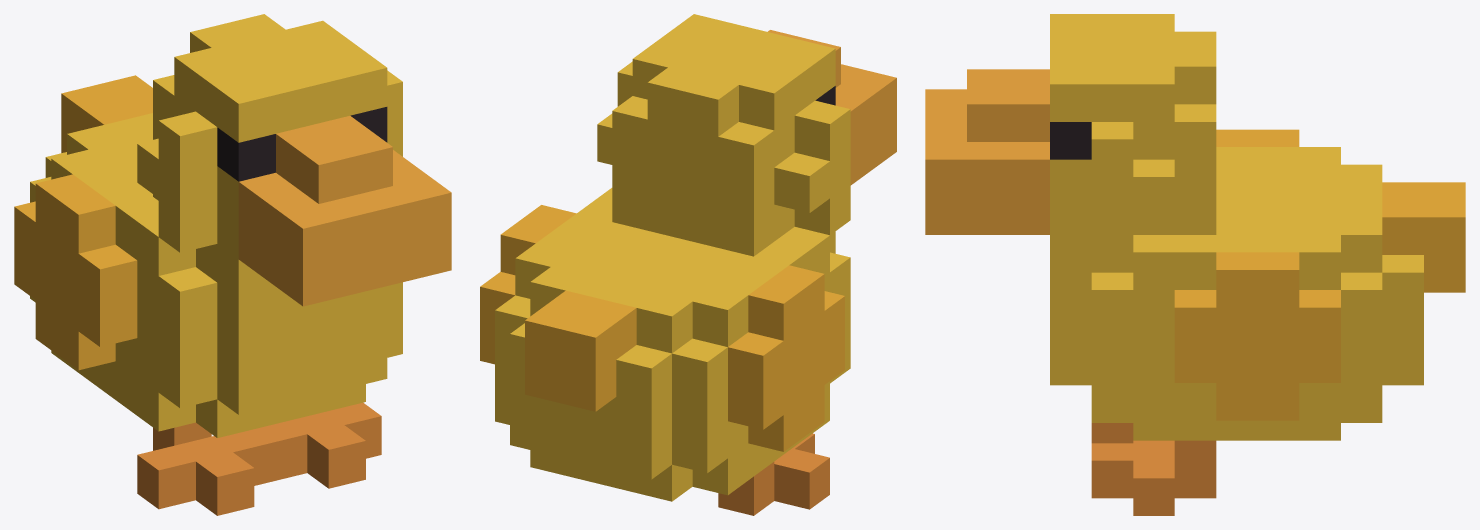
File: duckling.glb
3 renders of one model, left to right at view 1: azimuth 30°, elevation 25°; view 2: azimuth 150°, elevation 25°; view 3: azimuth 270°, elevation 25°, orthographic. The views are drawn at different scales.
Parts seen in each view (by area): view 1: duckling__head, duckling__body, duckling__wing_r, duckling__leg_r, duckling__leg_l, duckling__tail; view 2: duckling__body, duckling__head, duckling__wing_r, duckling__tail, duckling__leg_r, duckling__wing_l; view 3: duckling__body, duckling__head, duckling__wing_l, duckling__leg_l, duckling__tail, duckling__wing_r, duckling__leg_r.
Boxes of the visible parts, x1,y1,x2,y2 form: duckling__head: (137,14,451,306); duckling__body: (30,113,402,437); duckling__wing_r: (14,174,137,370); duckling__leg_r: (137,422,269,515); duckling__leg_l: (252,402,381,488); duckling__tail: (61,75,152,152); duckling__body: (495,188,850,501); duckling__head: (597,14,896,256); duckling__wing_r: (728,265,844,451); duckling__tail: (525,290,636,411); duckling__leg_r: (718,433,829,515); duckling__wing_l: (480,205,576,364); duckling__body: (1050,147,1423,440); duckling__head: (925,14,1216,272); duckling__wing_l: (1174,252,1340,420); duckling__leg_l: (1091,440,1216,515); duckling__tail: (1382,182,1465,292); duckling__wing_r: (1216,129,1299,146); duckling__leg_r: (1091,423,1133,443).
Size of the model in its own units: 0.8 by 1.1 by 1.3.
Materials: 1 (1 with a texture image).
